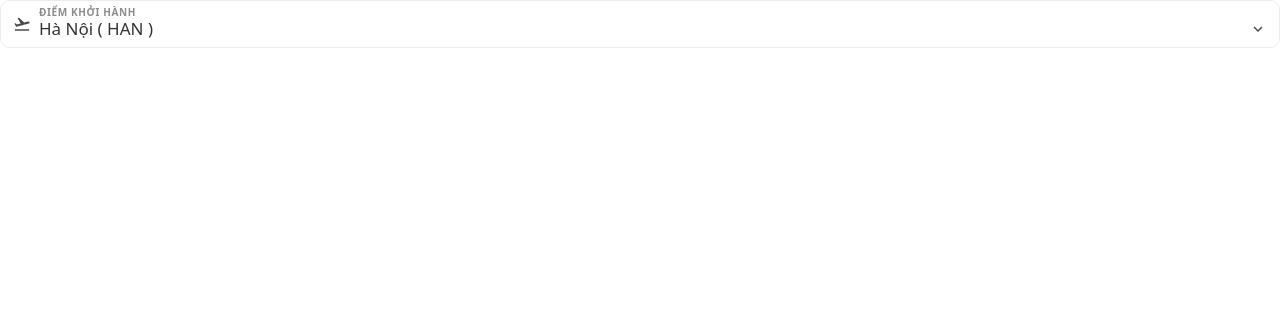
Test: AirportPicker › selects an airport and closes
What coordinates should you click on to do the following:
click the button with aria-label "Điểm khởi hành"
I would click on:
 (66, 28)
Its box is 39,17 -> 1267,41.
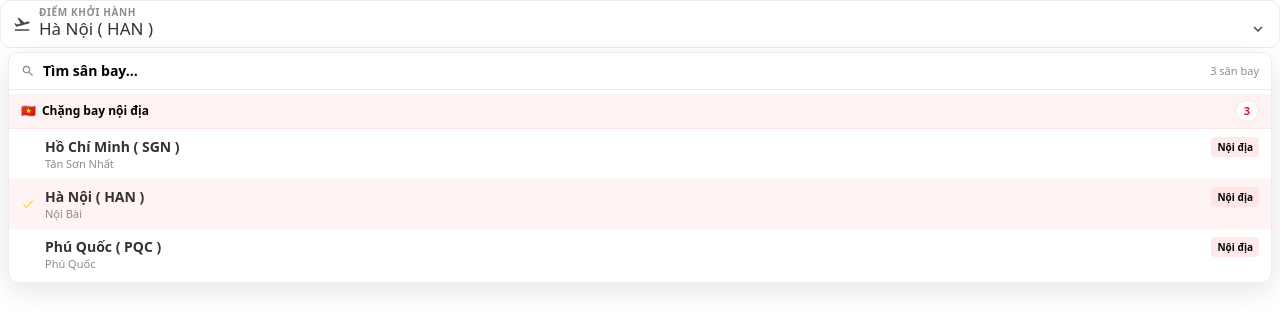
What coordinates should you click on to do the following:
click the option "Phú Quốc ( PQC ) Nội địa Phú Quốc"
I would click on:
 (79, 246)
Its box is 9,228 -> 1271,278.
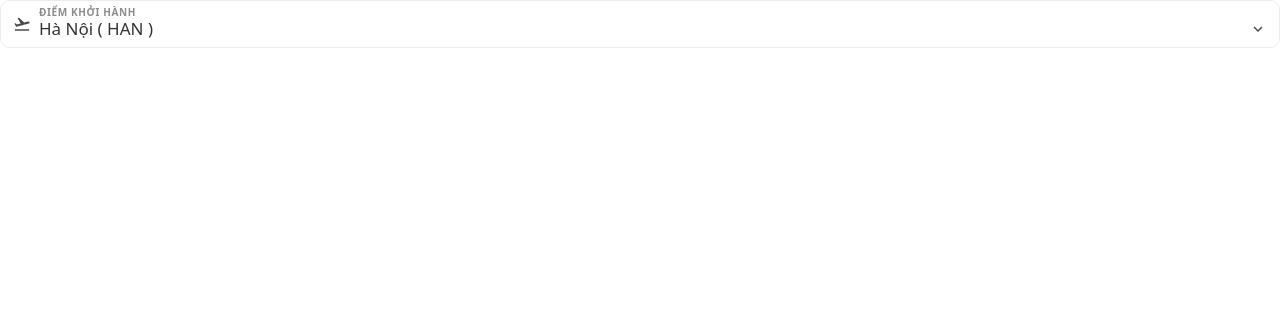
Check: the list is gone
